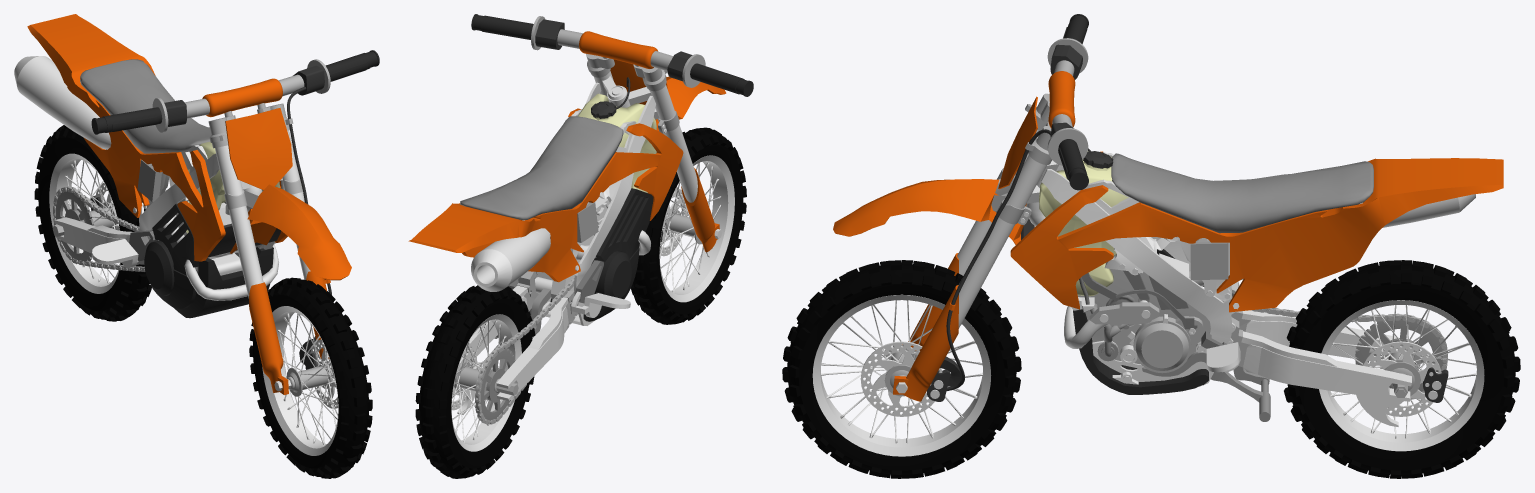
Rendered from project-1.fbx.
The picture shows the model from 3 angles, left to right: view 1: azimuth 30°, elevation 25°; view 2: azimuth 150°, elevation 25°; view 3: azimuth 270°, elevation 25°; orthographic projection. The views are drawn at different scales.
Parts seen in each view (by area): view 1: nomer, shina.001, Cylinder.015, sedlo, disk, Cylinder.019, RYCHKI, amortizator v, Cube.011, spici.001, zadnii rama, vtylka (+14 smaller); view 2: shina.001, nomer, sedlo, disk, Cylinder.015, Cube.011, RYCHKI, Cylinder.019, zadnii rama, spici.001, amortizator v, sep (+12 smaller); view 3: shina.001, nomer, sedlo, disk, Cube.011, zadnii rama, spici.001, amortizator v, tormoznoi disk, RYCHKI, Cube.006, Cylinder.015 (+16 smaller).
Boxes of the visible parts, x1,y1,x2,y2 form: nomer: [27, 14, 351, 394]; shina.001: [34, 125, 372, 478]; Cylinder.015: [144, 203, 273, 318]; sedlo: [80, 59, 211, 153]; disk: [49, 153, 338, 455]; Cylinder.019: [14, 56, 229, 257]; RYCHKI: [91, 50, 379, 134]; amortizator v: [215, 130, 310, 298]; Cube.011: [91, 145, 219, 268]; spici.001: [65, 160, 338, 446]; zadnii rama: [54, 215, 176, 264]; vtylka: [77, 202, 332, 396]; shina.001: [415, 127, 746, 478]; nomer: [408, 31, 726, 282]; sedlo: [460, 116, 623, 219]; disk: [451, 155, 734, 451]; Cylinder.015: [550, 188, 653, 321]; Cube.011: [520, 82, 655, 325]; RYCHKI: [471, 14, 753, 96]; Cylinder.019: [471, 228, 596, 291]; zadnii rama: [461, 285, 568, 401]; spici.001: [451, 162, 721, 442]; amortizator v: [594, 71, 697, 202]; sep: [475, 276, 578, 424]; shina.001: [782, 260, 1520, 478]; nomer: [833, 71, 1503, 401]; sedlo: [1111, 153, 1373, 233]; disk: [812, 294, 1484, 456]; Cube.011: [1041, 152, 1243, 386]; zadnii rama: [1241, 310, 1411, 401]; spici.001: [821, 300, 1476, 443]; amortizator v: [957, 130, 1063, 328]; tormoznoi disk: [860, 341, 1441, 416]; RYCHKI: [1047, 14, 1088, 190]; Cube.006: [1133, 316, 1203, 373]; Cylinder.015: [1073, 249, 1208, 394].
Bounding box in the file's own units: 229 × 264 × 448.
